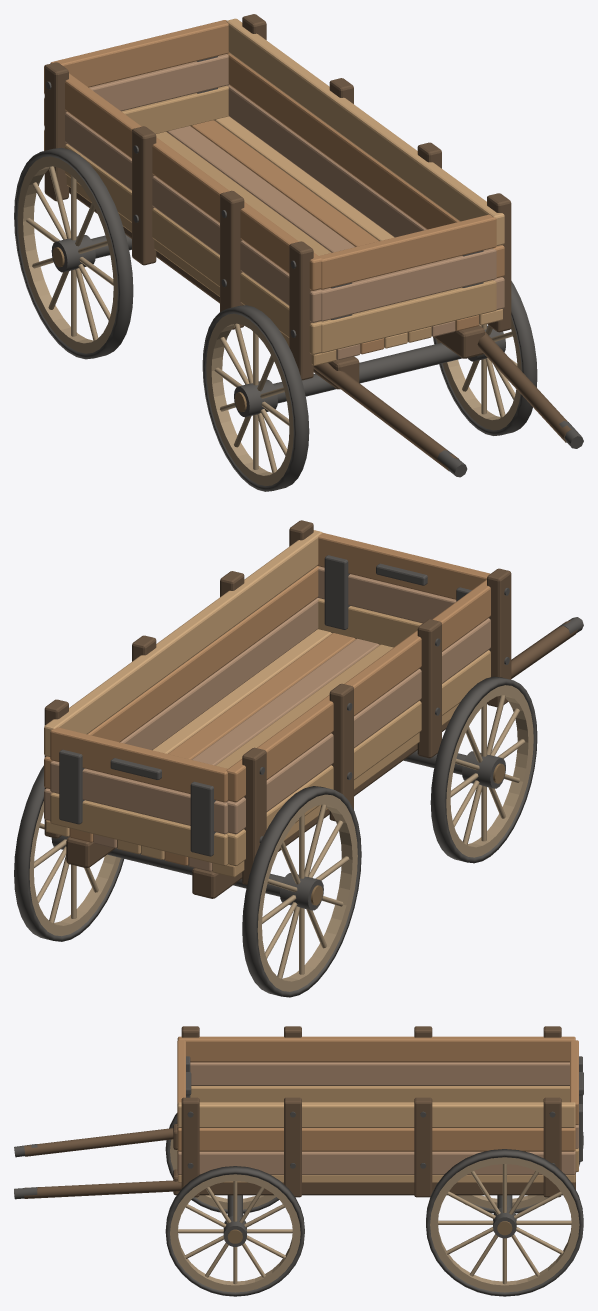
File: arena-wagon.glb
3 views of the same model, one above another, from view 1: azimuth 30°, elevation 25°; view 2: azimuth 150°, elevation 25°; view 3: azimuth 270°, elevation 25° (orthographic). The views are drawn at different scales.
Visible parts, largest first — view 1: Faded creosote wood 2, Faded creosote wood 1, Dark seasoned underframe, Weathered wheel felloe, Wrought iron tyres and bolts, Faded creosote wood 0, Faded creosote wood 3; view 2: Faded creosote wood 2, Faded creosote wood 1, Wrought iron tyres and bolts, Weathered wheel felloe, Dark seasoned underframe, Faded creosote wood 0, Faded creosote wood 3; view 3: Faded creosote wood 2, Faded creosote wood 1, Dark seasoned underframe, Weathered wheel felloe, Faded creosote wood 3, Wrought iron tyres and bolts, Faded creosote wood 0, Bronze wheel caps.
Boxes of the visible parts, x1=… form: Faded creosote wood 2: x1=44, y1=20, x2=504, y2=354; Faded creosote wood 1: x1=44, y1=54, x2=504, y2=359; Dark seasoned underframe: x1=44, y1=14, x2=571, y2=470; Weathered wheel felloe: x1=17, y1=156, x2=521, y2=485; Wrought iron tyres and bolts: x1=14, y1=56, x2=583, y2=491; Faded creosote wood 0: x1=44, y1=85, x2=496, y2=365; Faded creosote wood 3: x1=214, y1=18, x2=504, y2=348; Faded creosote wood 2: x1=44, y1=533, x2=490, y2=865; Faded creosote wood 1: x1=44, y1=566, x2=490, y2=871; Wrought iron tyres and bolts: x1=14, y1=555, x2=583, y2=997; Weathered wheel felloe: x1=29, y1=685, x2=533, y2=991; Dark seasoned underframe: x1=44, y1=520, x2=577, y2=898; Faded creosote wood 0: x1=50, y1=598, x2=490, y2=877; Faded creosote wood 3: x1=44, y1=530, x2=332, y2=859; Faded creosote wood 2: x1=177, y1=1036, x2=578, y2=1151; Faded creosote wood 1: x1=177, y1=1062, x2=578, y2=1174; Dark seasoned underframe: x1=24, y1=1026, x2=575, y2=1198; Weathered wheel felloe: x1=170, y1=1139, x2=579, y2=1292; Faded creosote wood 3: x1=177, y1=1102, x2=575, y2=1182; Wrought iron tyres and bolts: x1=14, y1=1056, x2=583, y2=1296; Faded creosote wood 0: x1=177, y1=1086, x2=578, y2=1171; Bronze wheel caps: x1=227, y1=1221, x2=512, y2=1243.
Bounding box in the file's own units: 1.35 × 1.26 × 3.45.
